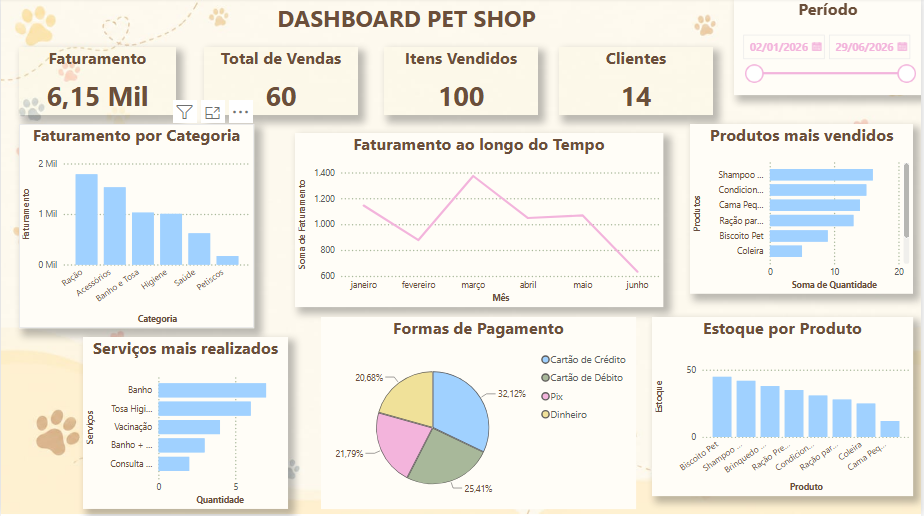

Layout of this report page (visuals, bound fields, positions):
{"tool":"powerbi","page":{"name":"Página 1","canvas":[1280,720],"ordinal":0},"visuals":[{"type":"card","title":"Faturamento","fields":{"Values":["Sum(PetShop_Vendas.Faturamento)"]},"box":[25,68.1,218.2,94.5],"z":0},{"type":"card","title":"Total de Vendas","fields":{"Values":["Count(PetShop_Vendas.Venda_ID)"]},"box":[282.2,68.1,214.1,94.5],"z":1000},{"type":"card","title":"Itens Vendidos","fields":{"Values":["Sum(PetShop_Vendas.Quantidade)"]},"box":[532.4,68.1,214.1,94.5],"z":2000},{"type":"card","title":"Clientes","fields":{"Values":["Count(PetShop_Vendas.Cliente)"]},"box":[775.6,68.1,214.1,94.5],"z":3000},{"type":"lineClusteredColumnComboChart","title":"Faturamento por Categoria","fields":{"Category":["PetShop_Vendas.Categoria"],"Y":["Sum(PetShop_Vendas.Faturamento)"]},"box":[25,175.1,326.6,283.6],"z":4000},{"type":"lineChart","title":"Faturamento ao longo do Tempo","fields":{"Y":["Sum(PetShop_Vendas.Faturamento)"],"Category":["PetShop_Vendas.Data.Variation.Hierarquia de datas.Mês"]},"box":[408.6,187.6,511.5,241.9],"z":5000},{"type":"barChart","title":"Produtos mais vendidos","fields":{"Category":["PetShop_Vendas.Produto_Servico"],"Y":["Sum(PetShop_Vendas.Quantidade)"]},"box":[957.7,175.1,310,236.3],"z":6000},{"type":"clusteredBarChart","title":"Serviços mais realizados","fields":{"Category":["PetShop_Vendas.Produto_Servico"],"Y":["Sum(PetShop_Vendas.Quantidade)"]},"box":[114,471.2,284.9,239.1],"z":7000},{"type":"pieChart","title":"Formas de Pagamento","fields":{"Category":["PetShop_Vendas.Forma_Pagamento"],"Y":["Sum(PetShop_Vendas.Faturamento)"]},"box":[444.8,443.4,437.6,266.8],"z":8000},{"type":"clusteredColumnChart","title":"Estoque por Produto","fields":{"Category":["PetShop_Estoque.Produto"],"Y":["Sum(PetShop_Estoque.Estoque_Atual)"]},"box":[904.9,443.4,362.8,248.8],"z":9000},{"type":"slicer","title":"Período","fields":{"Values":["PetShop_Vendas.Data"]},"box":[1018.8,0,261.3,134.8],"z":10000},{"type":"textbox","box":[169.6,0,788.1,58.4],"z":11000}]}

Visuals, with their boxes in screenshot pixels (x1, y1, x2, y2), scaled from the page's 1280x720 canvas onto the 924x516 screenshot:
"Faturamento" card: (x1=18, y1=49, x2=176, y2=117)
"Total de Vendas" card: (x1=204, y1=49, x2=358, y2=117)
"Itens Vendidos" card: (x1=384, y1=49, x2=539, y2=117)
"Clientes" card: (x1=560, y1=49, x2=714, y2=117)
"Faturamento por Categoria" lineClusteredColumnComboChart: (x1=18, y1=125, x2=254, y2=329)
"Faturamento ao longo do Tempo" lineChart: (x1=295, y1=134, x2=664, y2=308)
"Produtos mais vendidos" barChart: (x1=691, y1=125, x2=915, y2=295)
"Serviços mais realizados" clusteredBarChart: (x1=82, y1=338, x2=288, y2=509)
"Formas de Pagamento" pieChart: (x1=321, y1=318, x2=637, y2=509)
"Estoque por Produto" clusteredColumnChart: (x1=653, y1=318, x2=915, y2=496)
"Período" slicer: (x1=735, y1=0, x2=923, y2=97)
textbox: (x1=122, y1=0, x2=691, y2=42)
